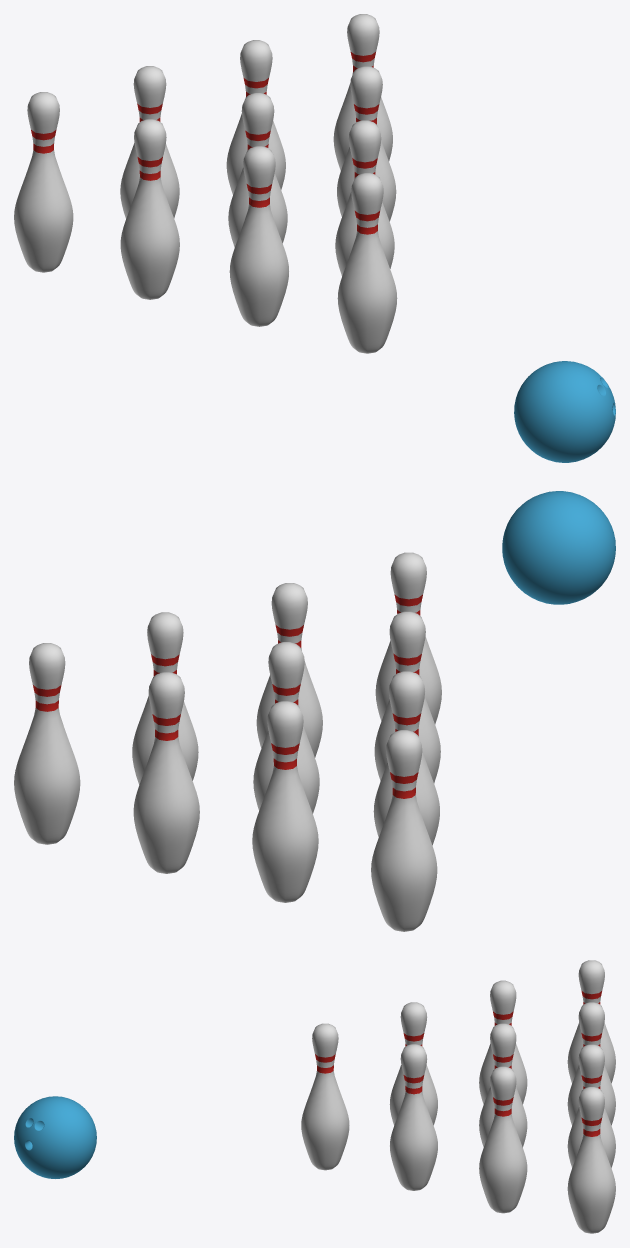
The model's file is BowlingBall_With_Pins.fbx.
3 views of the same model, one above another, from view 1: azimuth 30°, elevation 25°; view 2: azimuth 150°, elevation 25°; view 3: azimuth 270°, elevation 25° (orthographic). The views are drawn at different scales.
Visible parts, largest first — view 1: Bowing Ball, Pin 4, Pin 7, Pin 2, Pin 1, Pin 5, Pin 8, Pin 3, Pin 6, Pin 10, Pin 9; view 2: Bowing Ball, Pin 8, Pin 9, Pin 7, Pin 10, Pin 6, Pin 5, Pin 4, Pin 3, Pin 1, Pin 2; view 3: Bowing Ball, Pin 6, Pin 1, Pin 10, Pin 3, Pin 5, Pin 9, Pin 2, Pin 4, Pin 7, Pin 8.
Boxes of the visible parts, x1,y1,x2,y2 form: Bowing Ball: (514, 361, 615, 462); Pin 4: (120, 119, 179, 299); Pin 7: (14, 92, 73, 272); Pin 2: (229, 146, 288, 326); Pin 1: (337, 173, 397, 353); Pin 5: (228, 93, 287, 247); Pin 8: (120, 66, 179, 218); Pin 3: (335, 120, 394, 276); Pin 6: (337, 66, 396, 221); Pin 10: (333, 14, 392, 170); Pin 9: (226, 40, 285, 194); Bowing Ball: (502, 491, 615, 604); Pin 8: (252, 701, 318, 902); Pin 9: (133, 672, 199, 873); Pin 7: (371, 730, 437, 931); Pin 10: (14, 643, 80, 844); Pin 6: (132, 612, 198, 784); Pin 5: (253, 642, 319, 813); Pin 4: (373, 671, 439, 845); Pin 3: (256, 583, 322, 757); Pin 1: (375, 552, 441, 724); Pin 2: (374, 611, 440, 783); Bowing Ball: (14, 1096, 96, 1178); Pin 6: (479, 1066, 527, 1213); Pin 1: (301, 1023, 349, 1170); Pin 10: (567, 1087, 615, 1233); Pin 3: (390, 1044, 437, 1190); Pin 5: (479, 1023, 527, 1147); Pin 9: (567, 1044, 615, 1167); Pin 2: (389, 1002, 437, 1125); Pin 4: (479, 980, 527, 1104); Pin 7: (567, 960, 615, 1083); Pin 8: (567, 1002, 615, 1125).
Bounding box in the file's own units: 838 × 381 × 1451.
